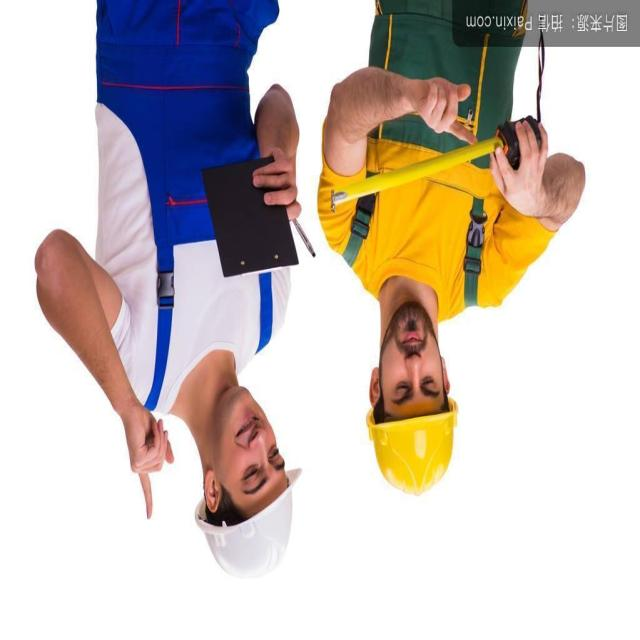helmet: (190, 469, 314, 589), (364, 406, 474, 496)
